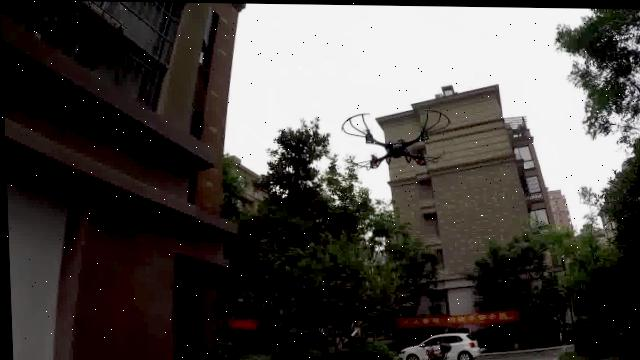drone: (331, 107, 454, 174)
